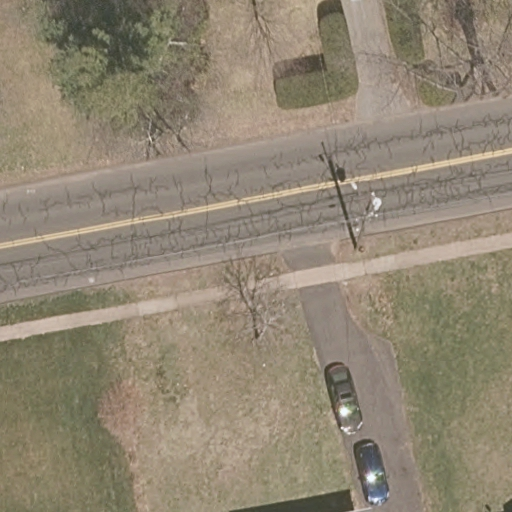DT: (351, 188, 383, 252)
